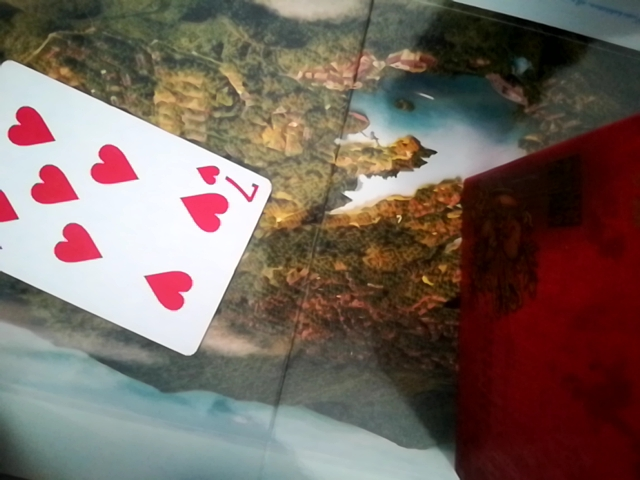hx 7: (0, 54, 272, 356)
